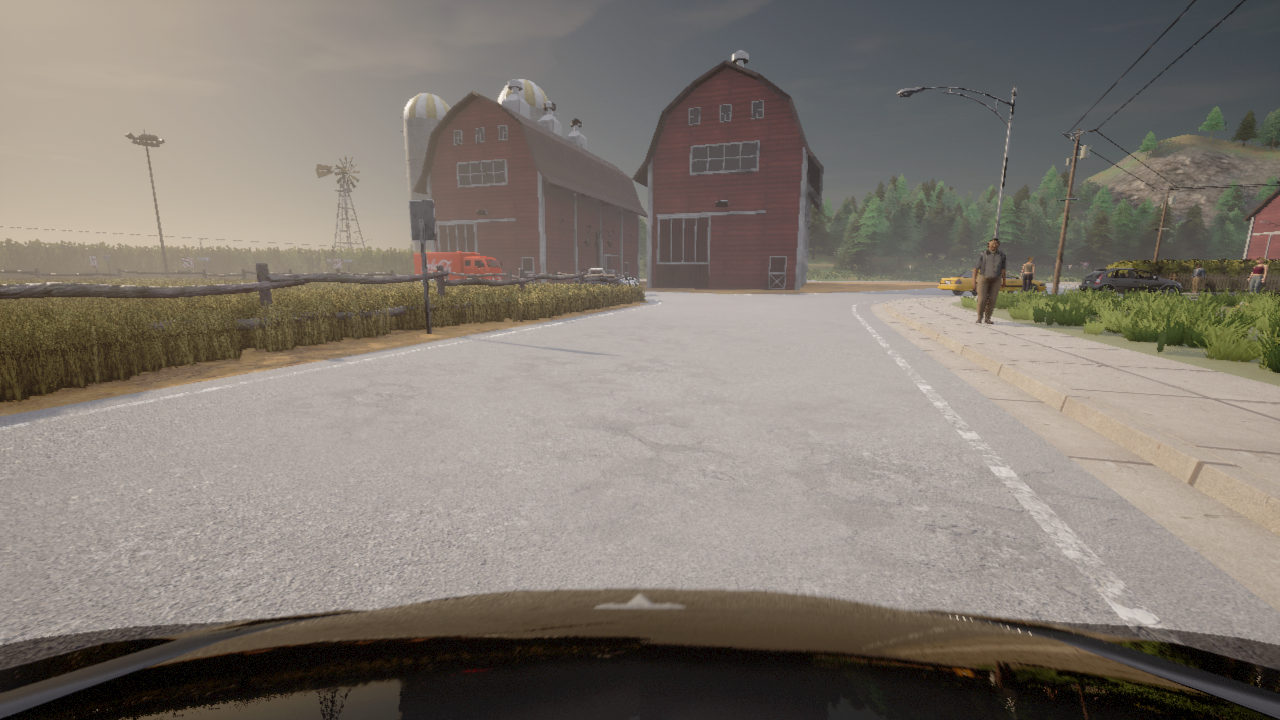cyclist: (0, 588, 1279, 719), (1079, 268, 1182, 295), (938, 270, 1046, 295), (414, 252, 501, 281), (572, 269, 638, 289)
pedestrian: (972, 238, 1005, 323), (1247, 258, 1267, 293), (1020, 257, 1034, 292), (1190, 264, 1204, 293)
